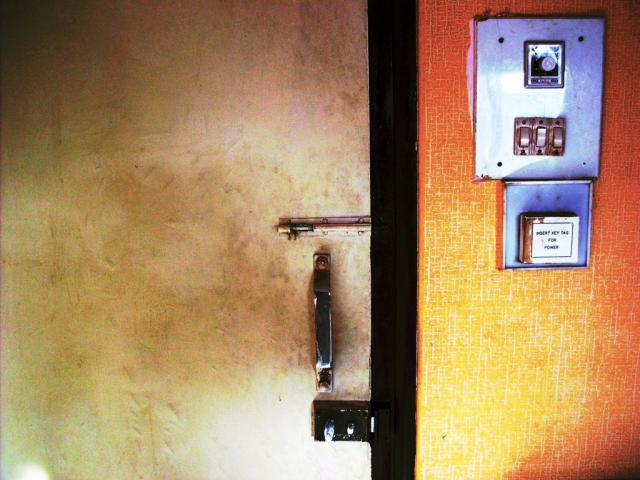Door-handle: (316, 253, 331, 394)
